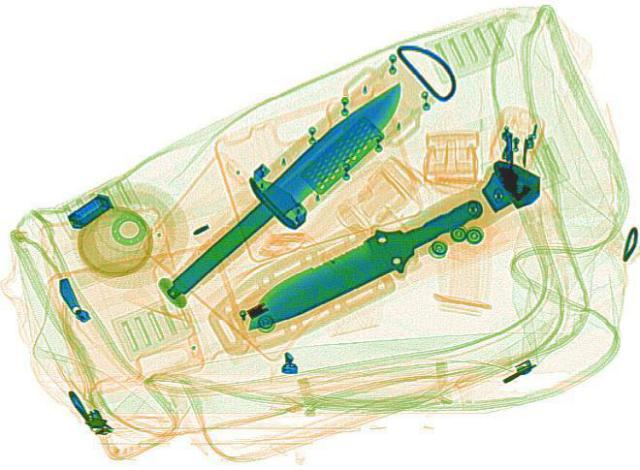Knife: (129, 62, 433, 321), (217, 177, 503, 347)
